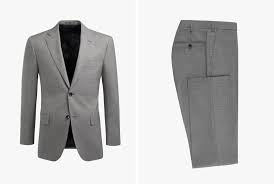F_M_suit jacket: (12, 14, 133, 169)
